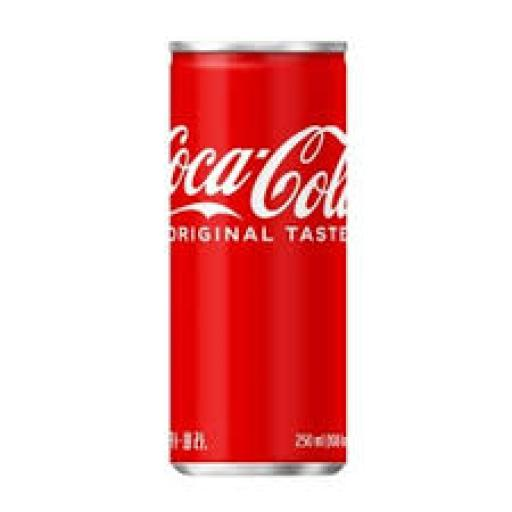Coca: (158, 27, 356, 493)
